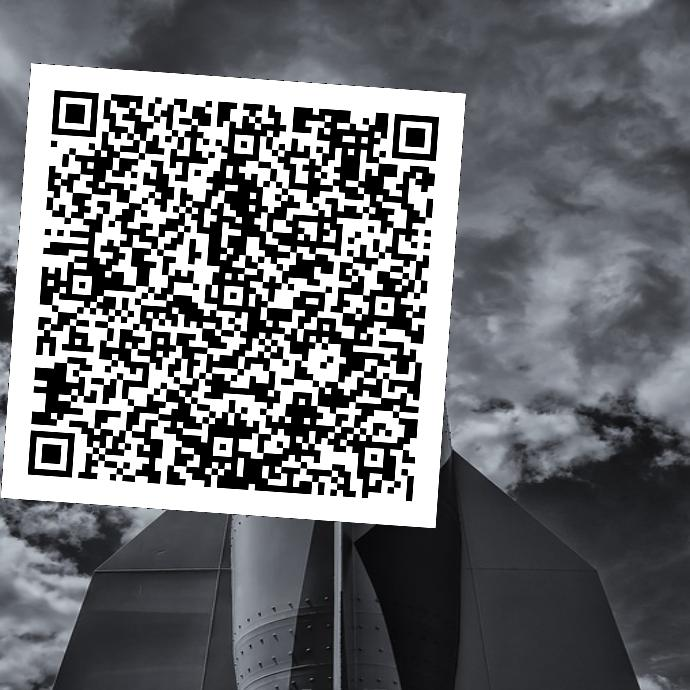qr_code: (1, 64, 465, 528)
